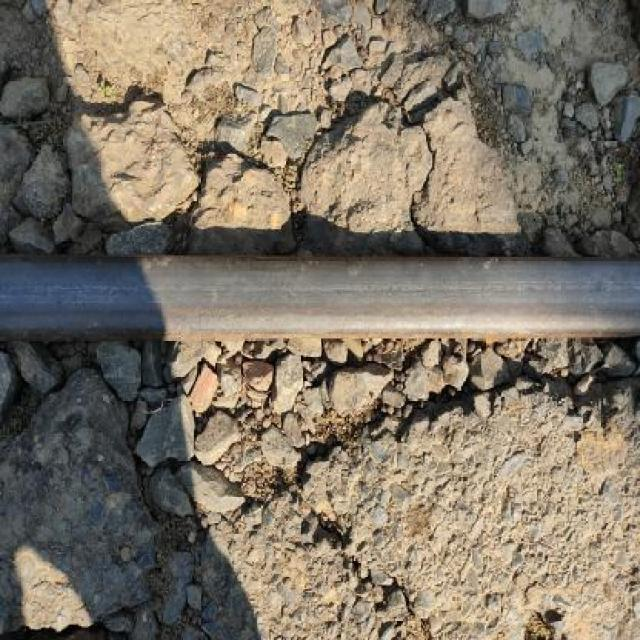non-defective: (1, 223, 640, 452)
